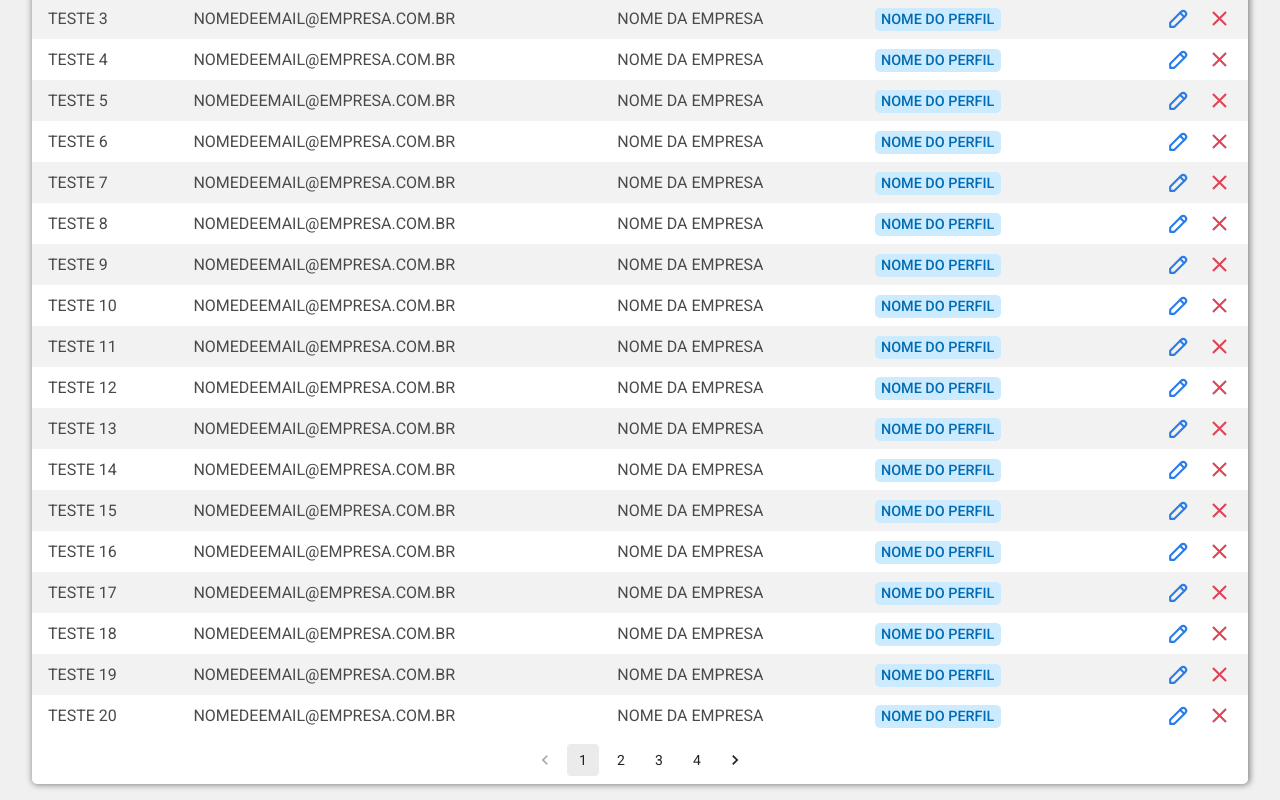
Home Page › change page
This screenshot has width=1280, height=800.
(page scrolled)
Expected: the text "TESTE 21" is not shown
Click the button "2" at {"x": 621, "y": 760}, box [605,744,637,776]
(page scrolled)
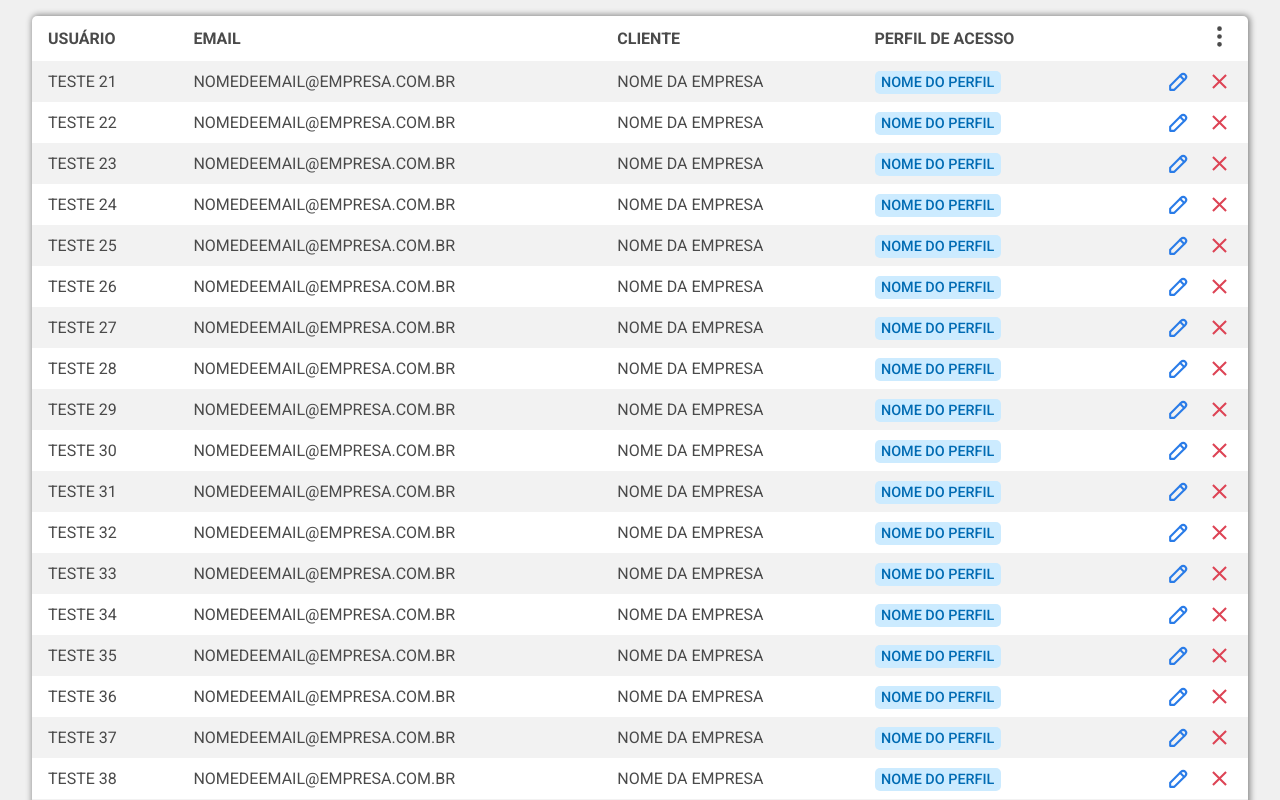
Now the text "TESTE 21" is shown, box [32,61,177,102]
